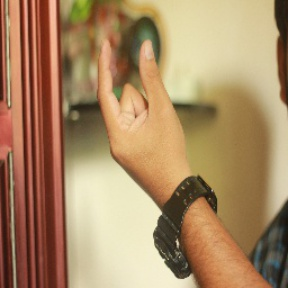U: (94, 38, 187, 169)
